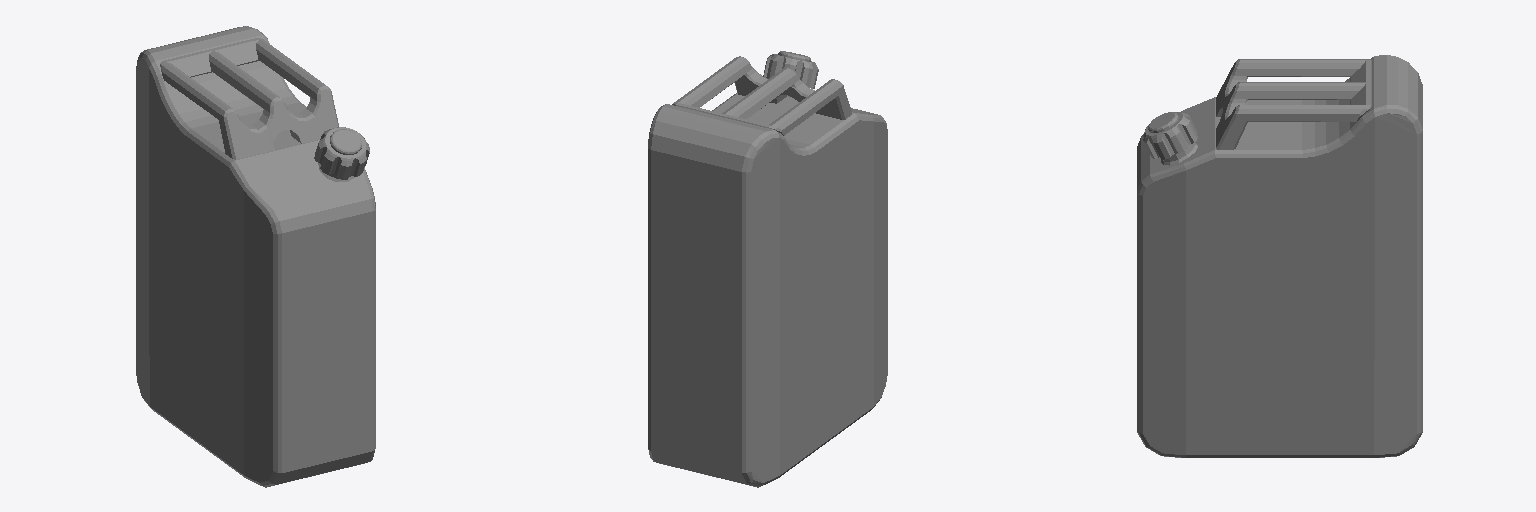
File: fuel_can.obj
3 views of the same model, side by side, from view 1: azimuth 30°, elevation 25°; view 2: azimuth 150°, elevation 25°; view 3: azimuth 270°, elevation 25° (orthographic).
Visible parts, largest first — view 1: fuel_can; view 2: fuel_can; view 3: fuel_can.
Boxes of the visible parts, x1=… form: fuel_can: x1=136, y1=26, x2=375, y2=487; fuel_can: x1=648, y1=51, x2=887, y2=487; fuel_can: x1=1137, y1=55, x2=1422, y2=457.
Bounding box in the file's own units: 17.72 × 50.27 × 37.06.